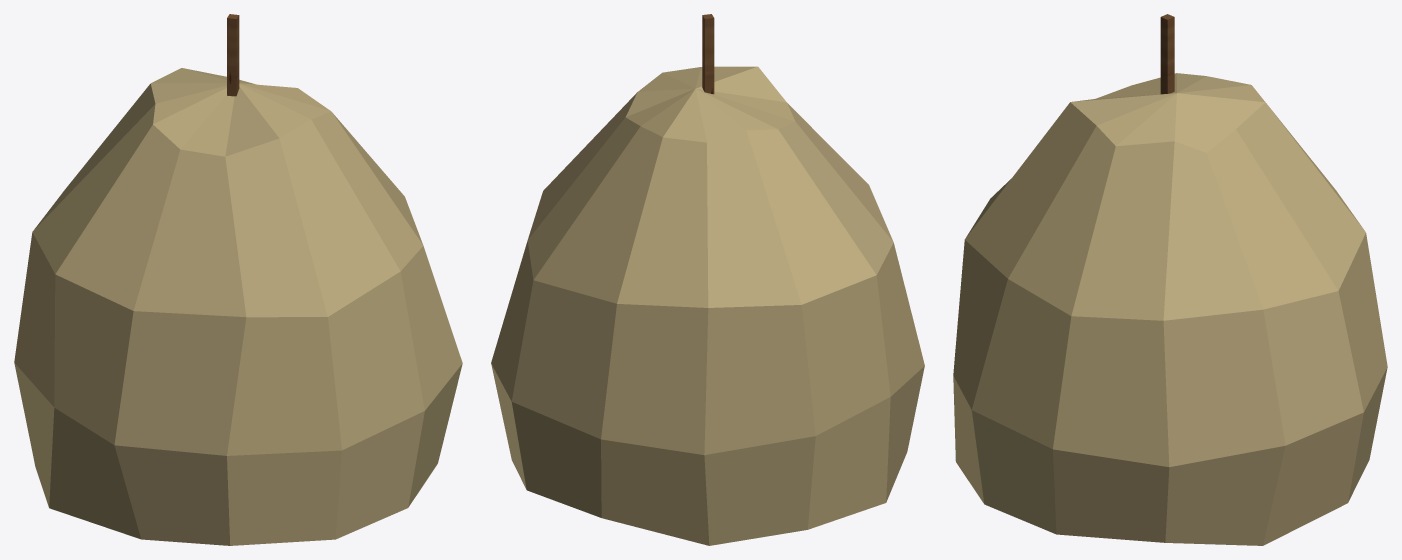
The model's file is haystack.glb.
3 views of the same model, side by side, from view 1: azimuth 30°, elevation 25°; view 2: azimuth 150°, elevation 25°; view 3: azimuth 270°, elevation 25° (orthographic).
Parts seen in each view (by area): view 1: Haystack; view 2: Haystack; view 3: Haystack.
Part boxes in pixels (x1=…): Haystack: x1=14, y1=14, x2=462, y2=545; Haystack: x1=491, y1=14, x2=924, y2=545; Haystack: x1=953, y1=14, x2=1387, y2=545.
Size of the model in its own units: 2.47 by 2.86 by 2.47.
Materials: 2 (1 with a texture image).
